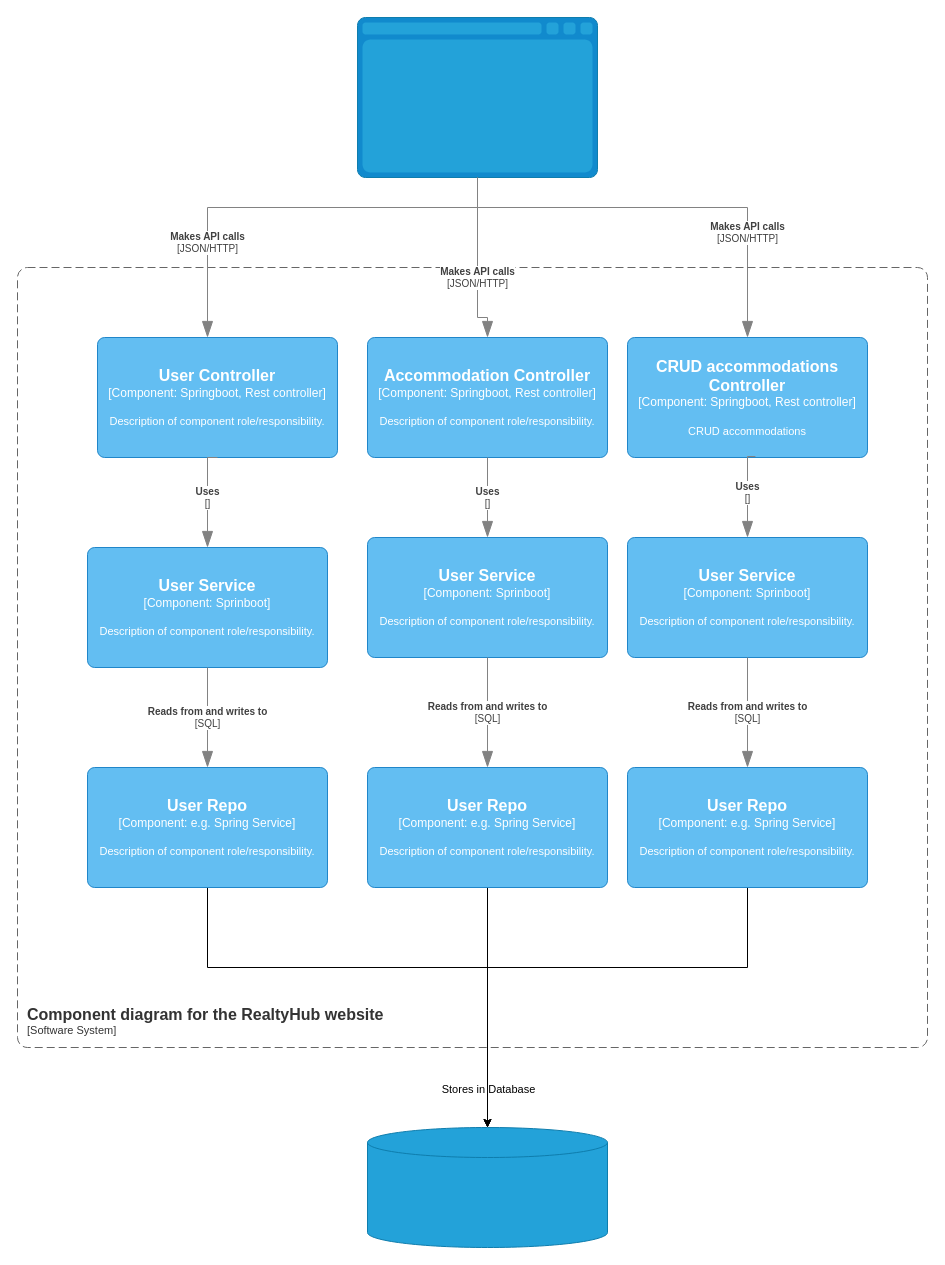
Image size: 945x1265. Some labels were removed from this diagram. Here are the shapes that lost their labels. From the top down, the centre of each, then its label:
(x=477, y=97): Website [Container : JavaScript, React] The website
(x=487, y=1187): Database [Container : SQL database] The database of the website.
